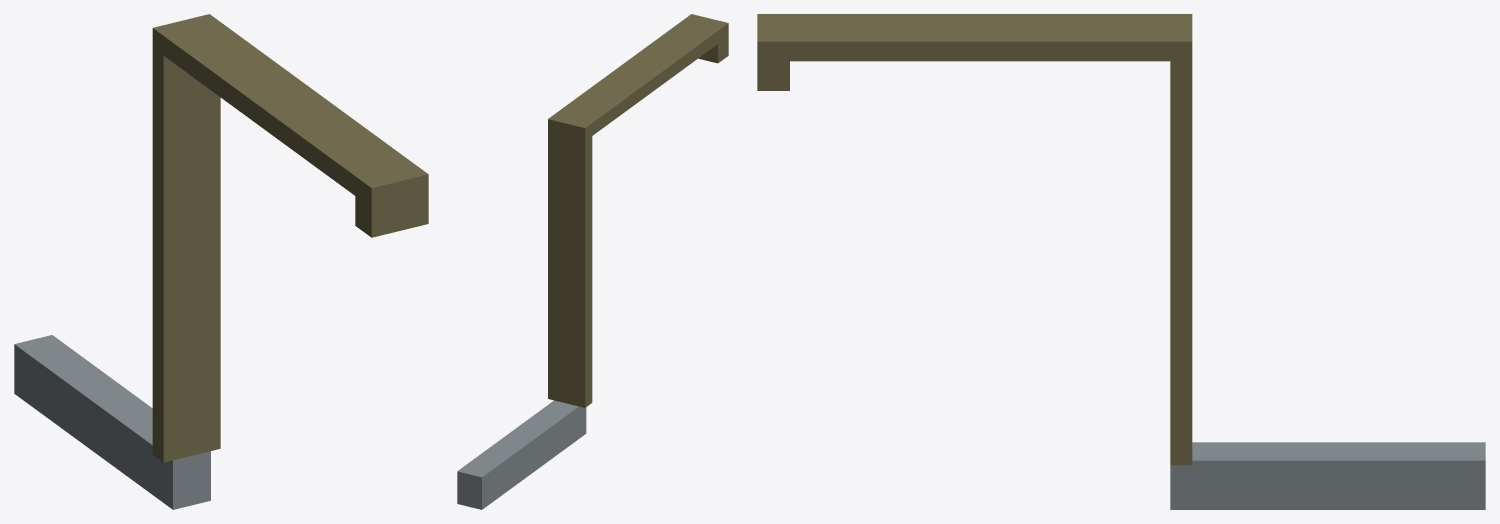
Rendered from weapon_sling_worn.glb.
3 renders of one model, left to right at view 1: azimuth 30°, elevation 25°; view 2: azimuth 150°, elevation 25°; view 3: azimuth 270°, elevation 25°, orthographic. The views are drawn at different scales.
Parts seen in each view (by area): view 1: shell:compound; view 2: shell:compound; view 3: shell:compound.
Part boxes in pixels (left/top/right/bottom): shell:compound: left=14, top=14, right=428, bottom=509; shell:compound: left=457, top=14, right=728, bottom=509; shell:compound: left=757, top=14, right=1485, bottom=509.
Bounding box in the file's own units: 0.024 × 0.192 × 0.268.
